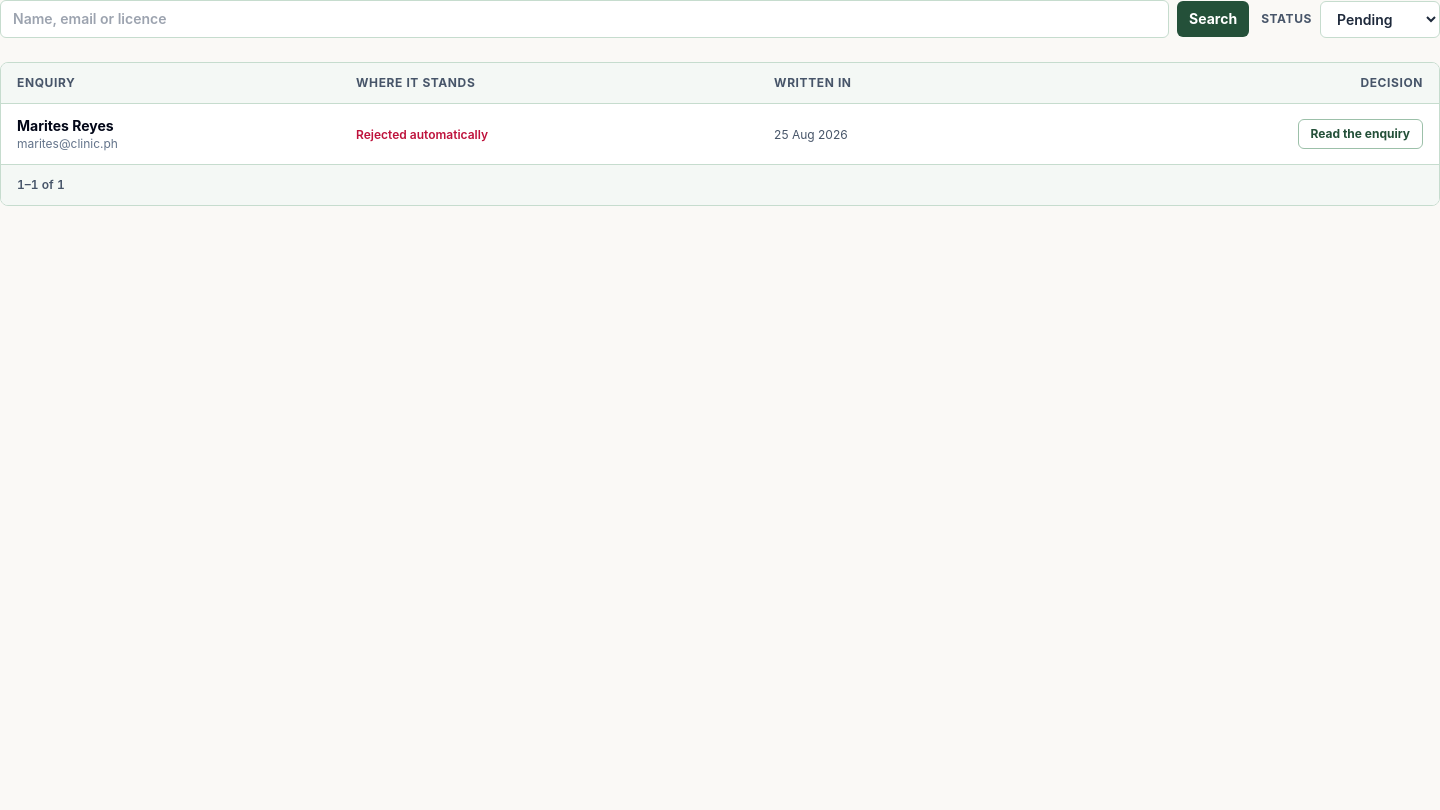
the enquiries tab › tells an automatic refusal from a decision somebody made
Expected: the text "Rejected automatically" is shown, top-left (356, 127), bottom-right (488, 142)
Expected: the text "no licence number was given" is not shown
Click the button "Read the enquiry" at (1360, 134), box top-left (1298, 119), bottom-right (1423, 149)
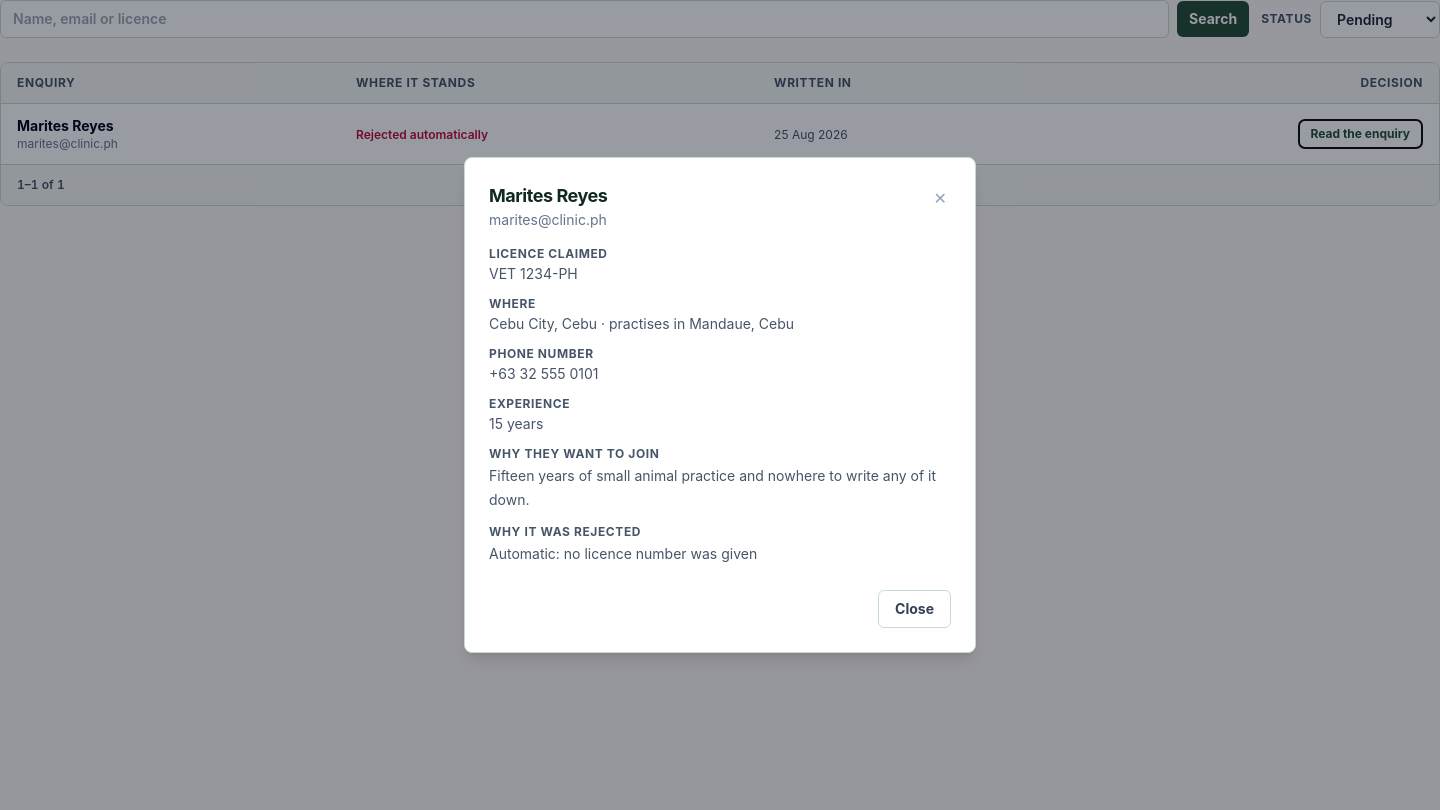
Now the text "Automatic: no licence number was given" is shown, box top-left (489, 545), bottom-right (757, 562)
